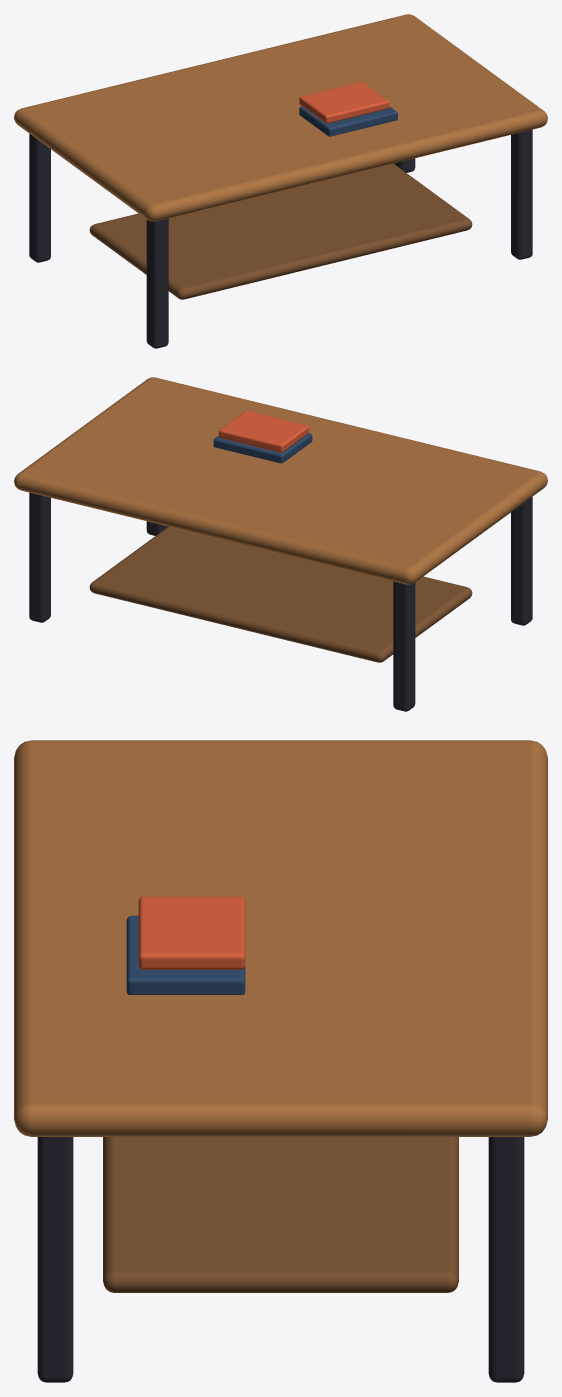
The model's file is coffee-table.glb.
3 views of the same model, one above another, from view 1: azimuth 30°, elevation 25°; view 2: azimuth 150°, elevation 25°; view 3: azimuth 270°, elevation 25° (orthographic). The views are drawn at different scales.
Bounding box in the file's own units: 1.5 × 0.595 × 0.9.
